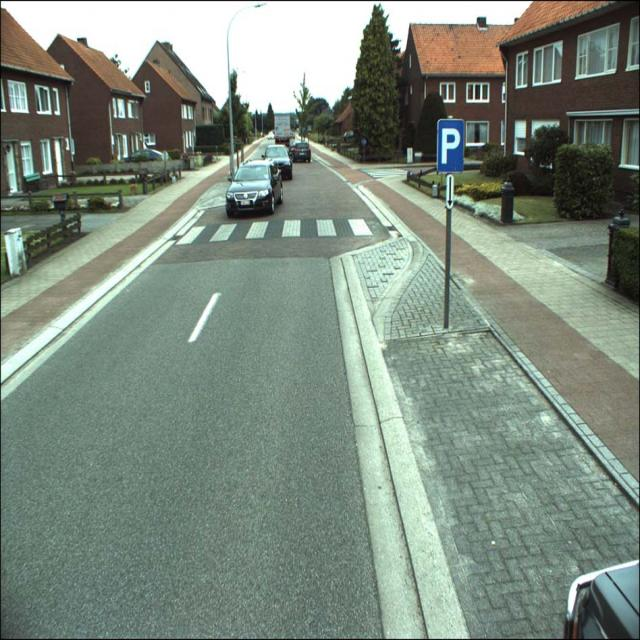park: (438, 119, 465, 173)
